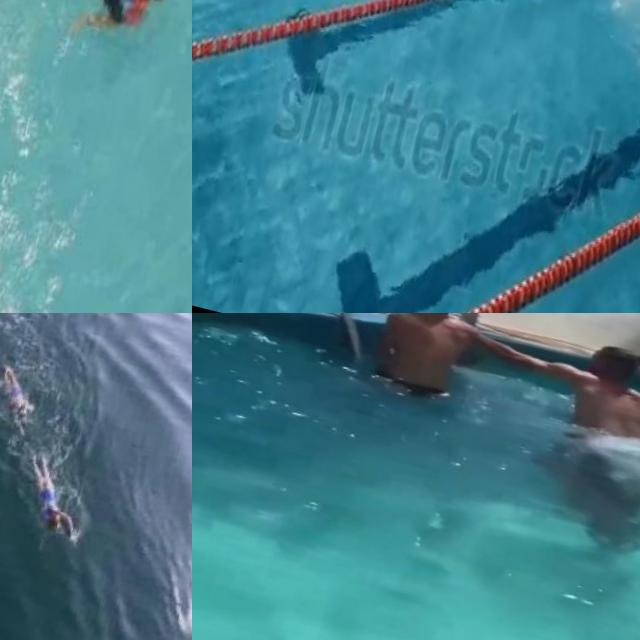swimming: (543, 320, 640, 467), (371, 313, 503, 415), (9, 447, 90, 547), (34, 0, 175, 45), (0, 363, 41, 434)
